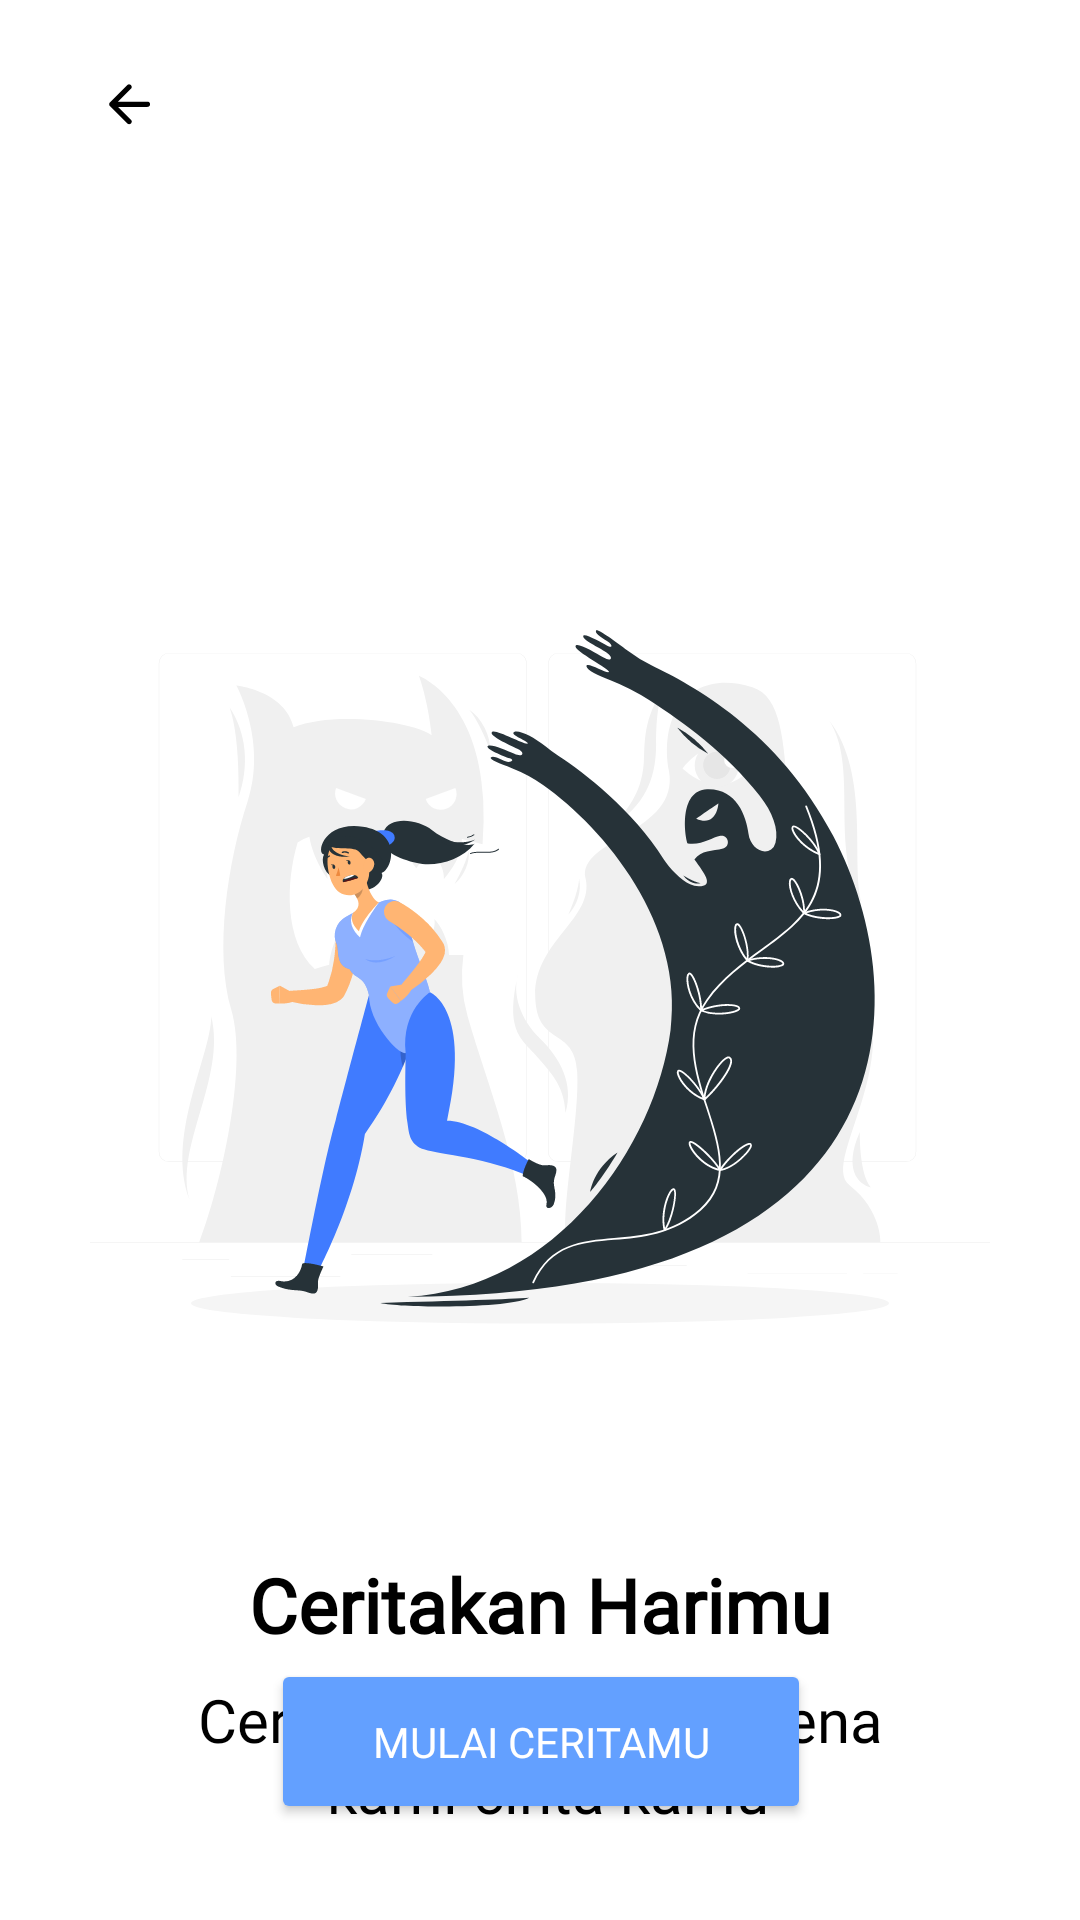

Icon click points for this 1080 × 1920 phone screenshot, format (x,y):
back: (129,104)
